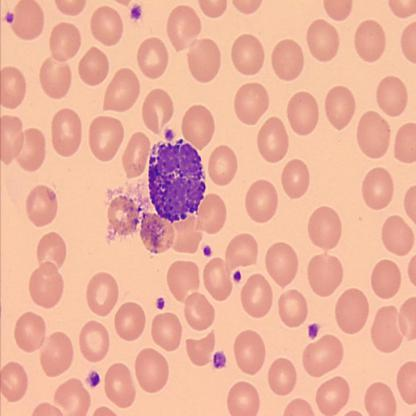Basophil: (146, 135, 207, 226)
